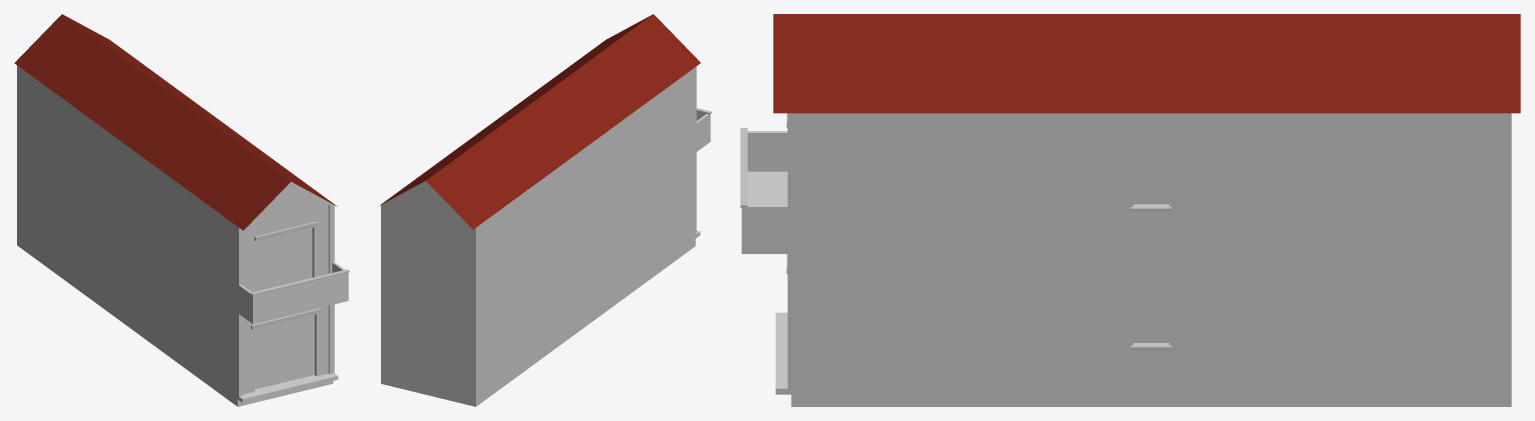
The picture shows the model from 3 angles, left to right: view 1: azimuth 30°, elevation 25°; view 2: azimuth 150°, elevation 25°; view 3: azimuth 270°, elevation 25°; orthographic projection. The views are drawn at different scales.
Visible parts, largest first — view 1: TH_D16_R_19_LOD0; view 2: TH_D16_R_19_LOD0; view 3: TH_D16_R_19_LOD0.
Boxes of the visible parts, x1,y1,x2,y2 form: TH_D16_R_19_LOD0: (14, 14, 349, 406); TH_D16_R_19_LOD0: (379, 14, 711, 406); TH_D16_R_19_LOD0: (740, 14, 1520, 406).
Size of what is drawn, in the model's own units: 4.11 by 8.7 by 17.33.
